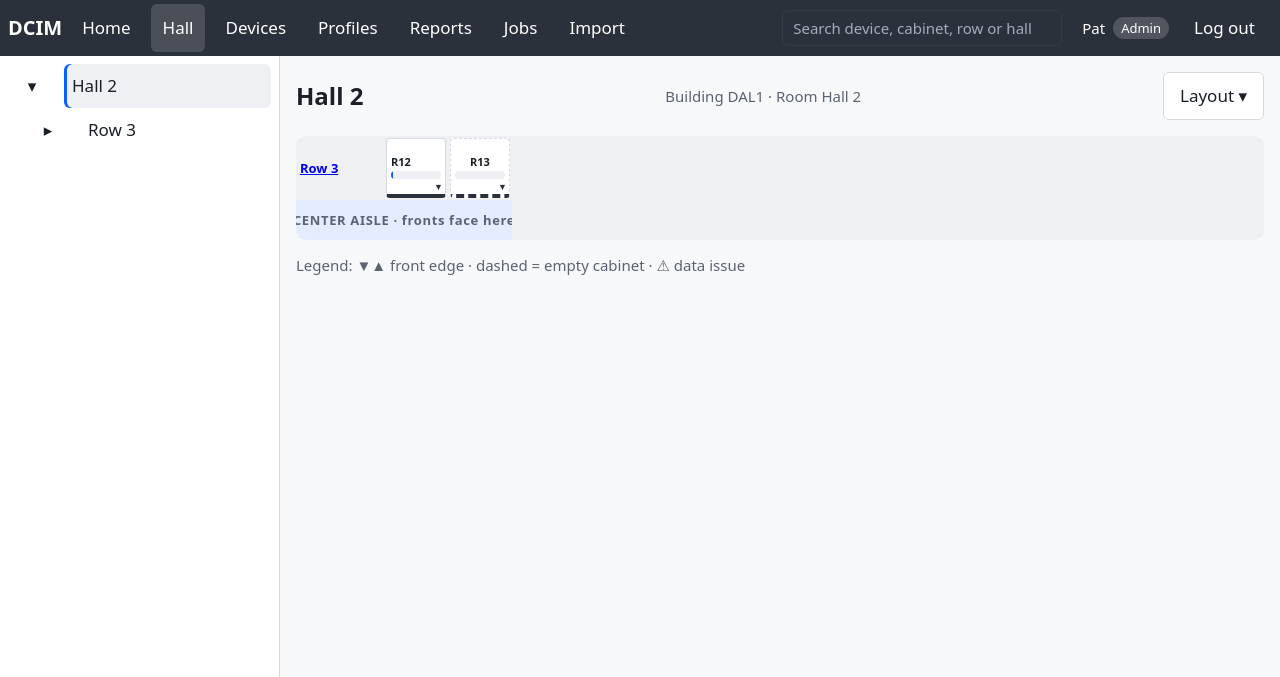
Test: hall floor plan and tree › tree drills Data Hall › Row › Cabinet › RU › Device
Click the button named "Expand Row 3": (48, 130) [24,108,72,152]
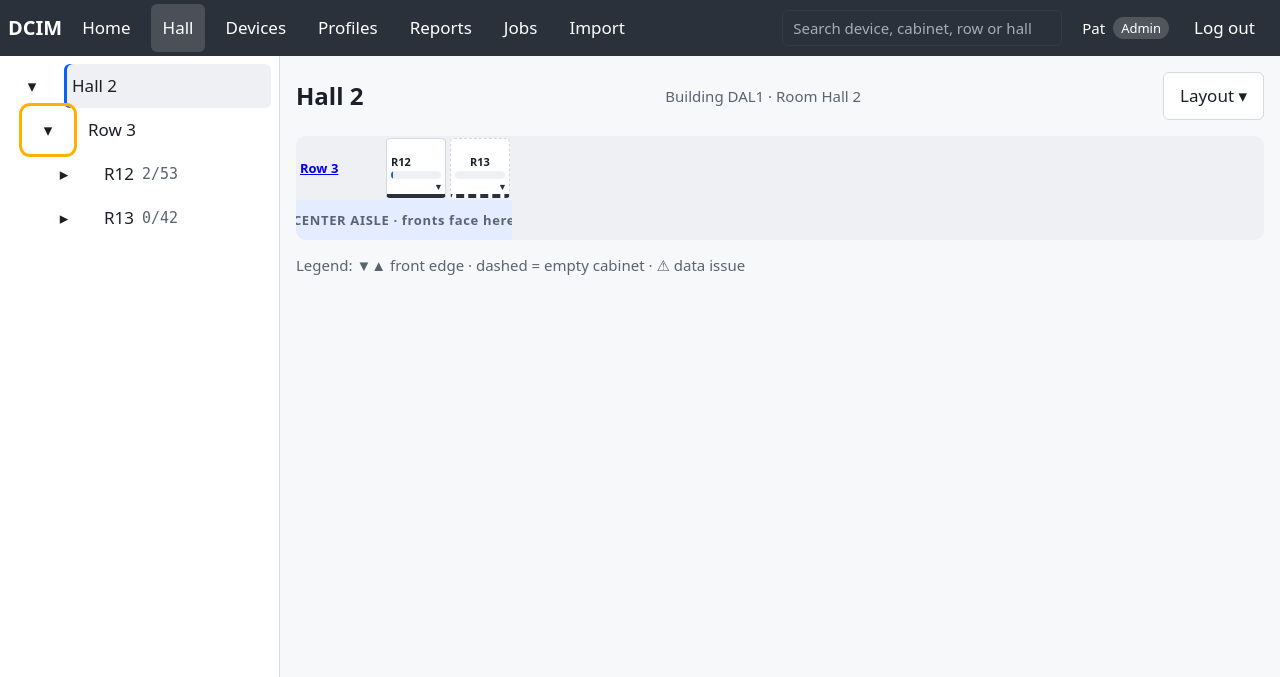
Click the button named "Expand R12": (64, 174) [40,152,88,196]
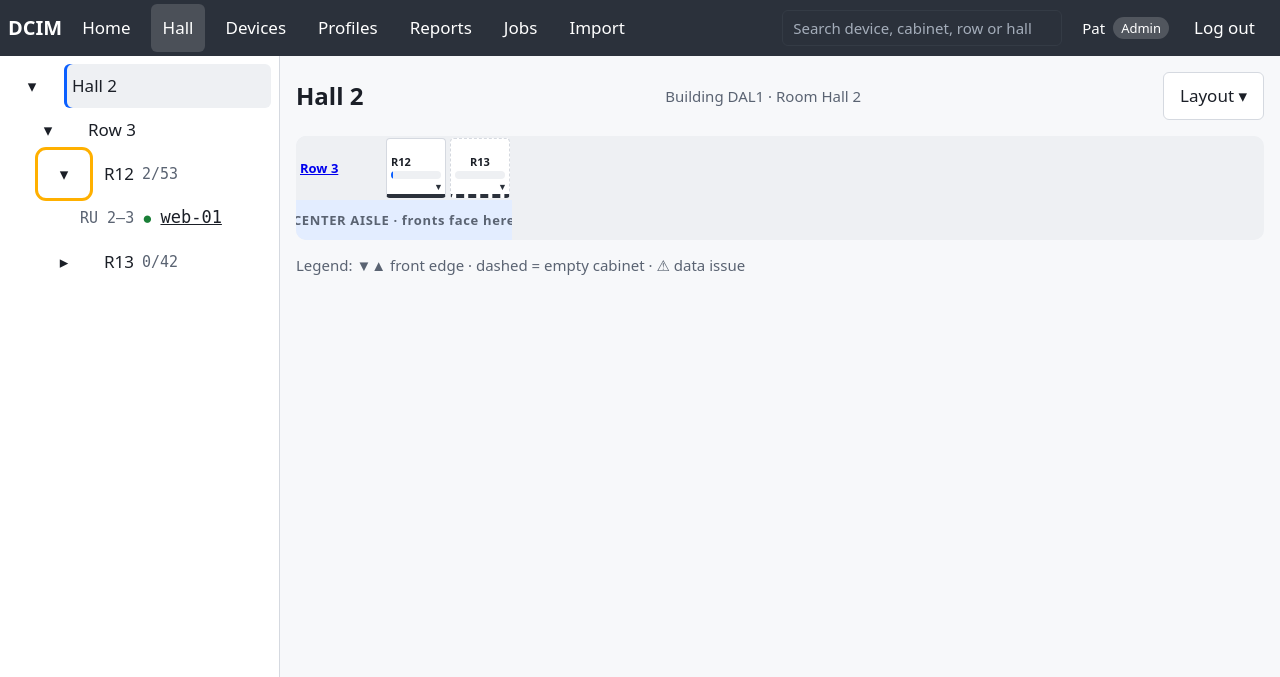
Now the link "web-01" is shown, box [160,207,222,227]
Now the text "RU 2–3" is shown, box [80,208,134,228]
Click the link "R12 2/53": (141, 174) [104,162,178,185]
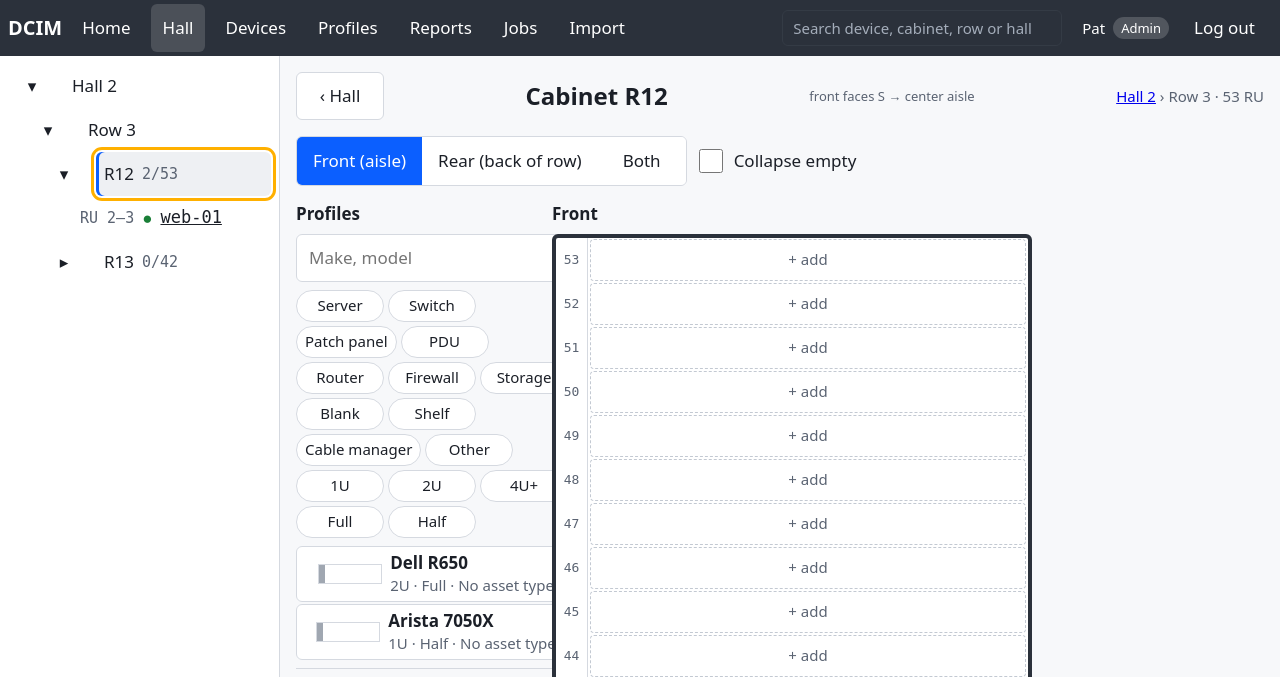
Now the heading "Cabinet R12" is shown, box [526,79,668,113]
